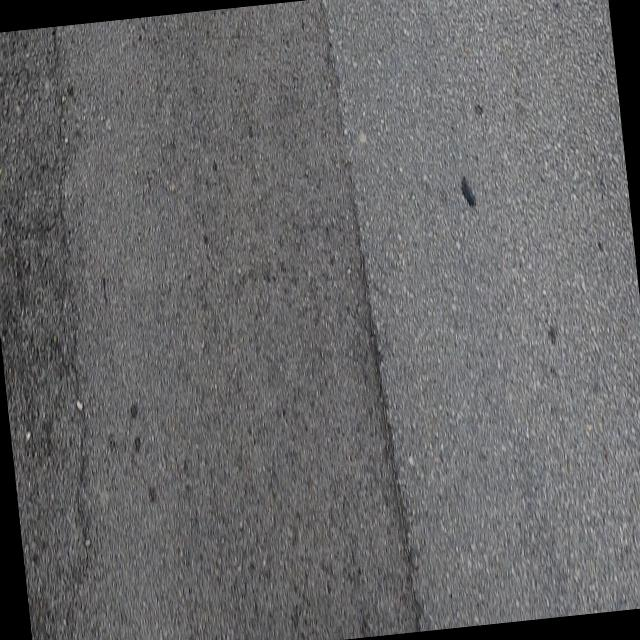Retak-Memanjang: (347, 184, 426, 632), (47, 26, 93, 572)
